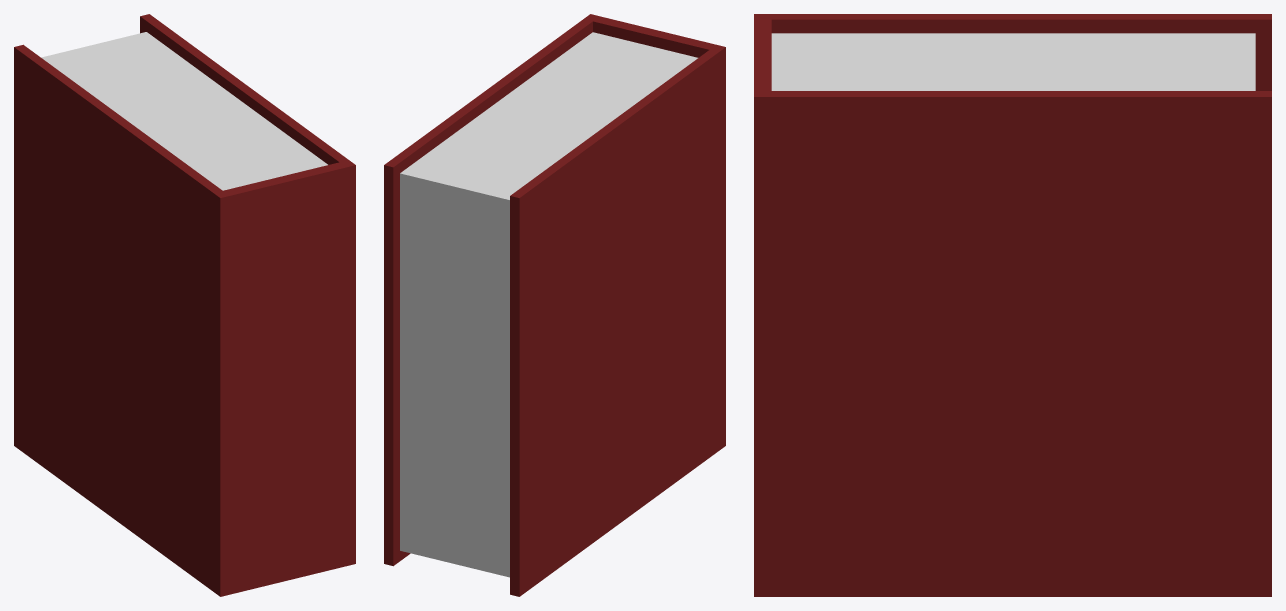
File: Book_Fat.obj
3 views of the same model, side by side, from view 1: azimuth 30°, elevation 25°; view 2: azimuth 150°, elevation 25°; view 3: azimuth 270°, elevation 25° (orthographic). The views are drawn at different scales.
Parts seen in each view (by area): view 1: Book_Fat; view 2: Book_Fat; view 3: Book_Fat.
Part boxes in pixels (left/top/right/bottom): Book_Fat: left=14, top=14, right=355, bottom=596; Book_Fat: left=384, top=14, right=725, bottom=596; Book_Fat: left=754, top=14, right=1271, bottom=596.
Bounding box in the file's own units: 0.096 × 0.2701 × 0.2535.
